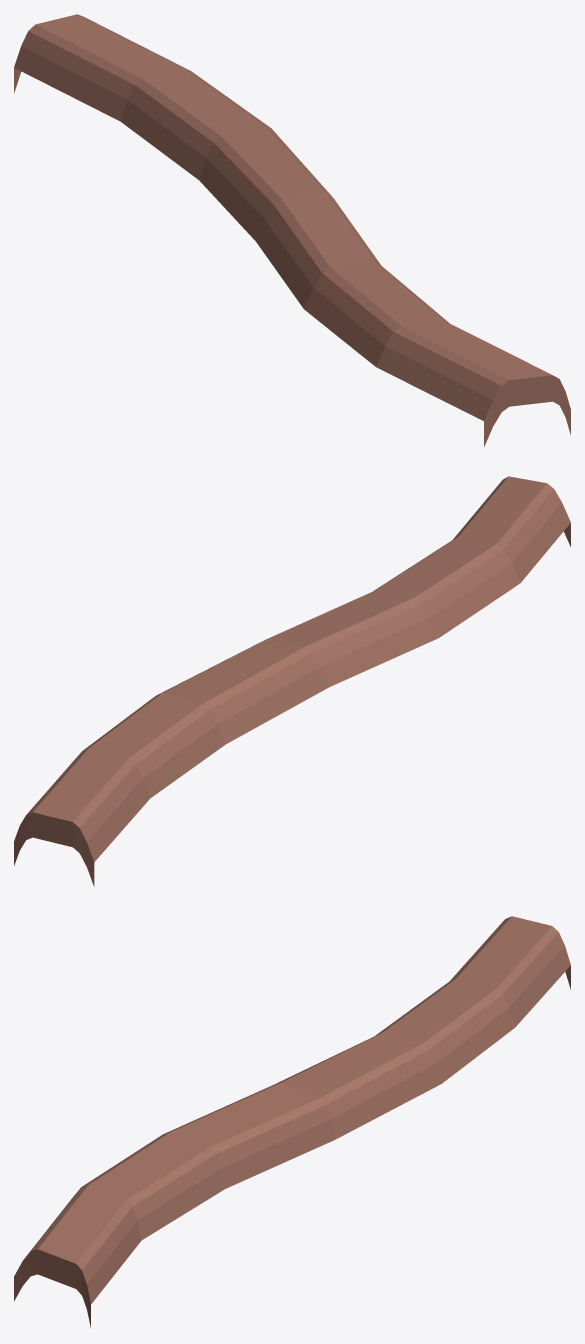
The model's file is SM_Paddies_1.fbx.
The picture shows the model from 3 angles, top to bottom: view 1: azimuth 30°, elevation 25°; view 2: azimuth 150°, elevation 25°; view 3: azimuth 330°, elevation 25°; orthographic projection. The views are drawn at different scales.
Parts seen in each view (by area): view 1: Paddie01; view 2: Paddie01; view 3: Paddie01.
Part boxes in pixels (bbox=[...]): Paddie01: bbox=[14, 14, 570, 446]; Paddie01: bbox=[14, 476, 570, 886]; Paddie01: bbox=[14, 916, 570, 1327].
Bounding box in the file's own units: 181 × 79.3 × 1004.
